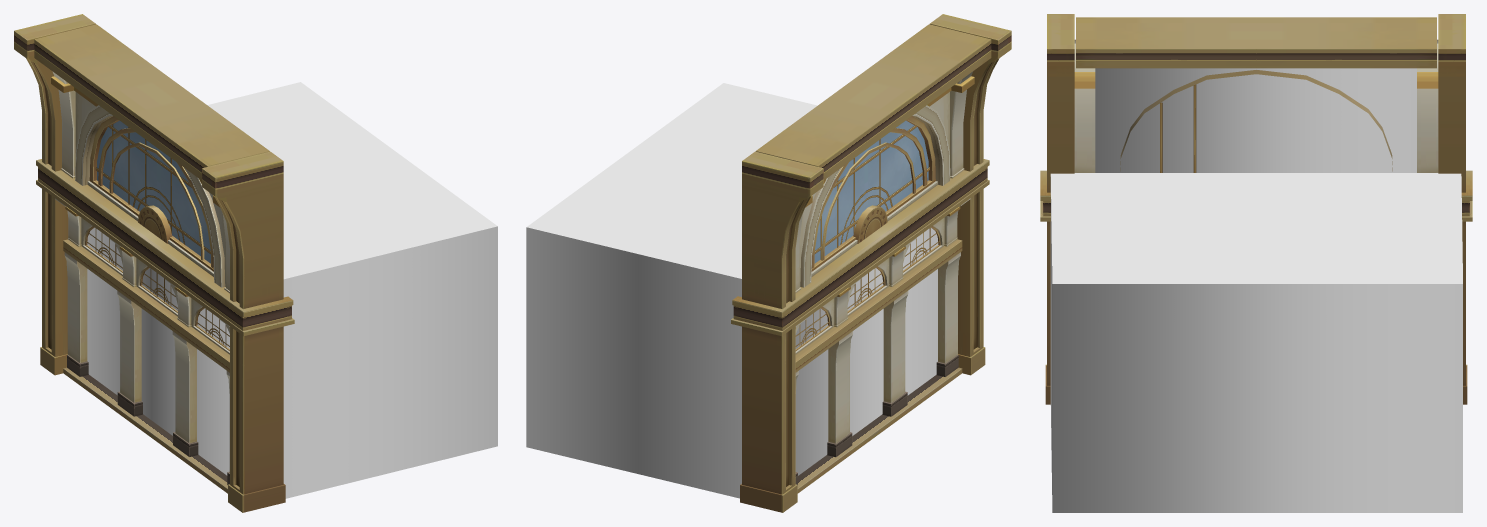
Rendered from my_highlander_01_platform_01.glb.
3 renders of one model, left to right at view 1: azimuth 30°, elevation 25°; view 2: azimuth 150°, elevation 25°; view 3: azimuth 270°, elevation 25°, orthographic. The views are drawn at different scales.
Parts seen in each view (by area): view 1: my_highlander_01_platform_01, my_highlander_01_platform_01_cover, my_highlander_01_platform_01_hole; view 2: my_highlander_01_platform_01, my_highlander_01_platform_01_cover, my_highlander_01_platform_01_hole; view 3: my_highlander_01_platform_01_cover, my_highlander_01_platform_01, my_highlander_01_platform_01_hole.
Part boxes in pixels (box(x1,y1,x2,y2)): my_highlander_01_platform_01: box(14, 14, 294, 512); my_highlander_01_platform_01_cover: box(207, 82, 497, 498); my_highlander_01_platform_01_hole: box(87, 227, 229, 475); my_highlander_01_platform_01: box(731, 14, 1011, 512); my_highlander_01_platform_01_cover: box(526, 83, 817, 498); my_highlander_01_platform_01_hole: box(795, 228, 938, 475); my_highlander_01_platform_01_cover: box(1050, 173, 1462, 512); my_highlander_01_platform_01: box(1040, 14, 1472, 404); my_highlander_01_platform_01_hole: box(1095, 68, 1416, 172).
Size of the model in its own units: 0.0396 by 0.0452 by 0.0499.
5 materials, 3 textured.
